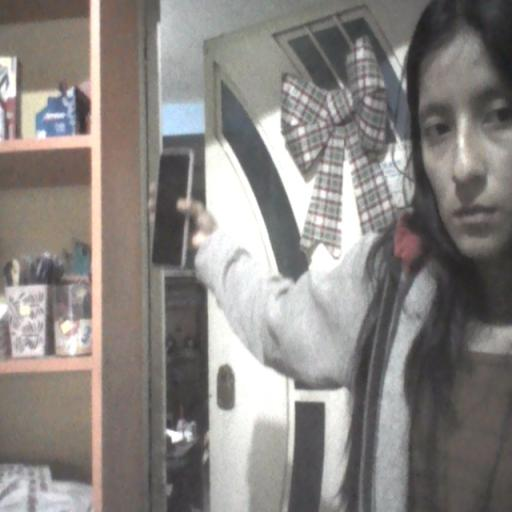phone: (150, 136, 195, 278)
